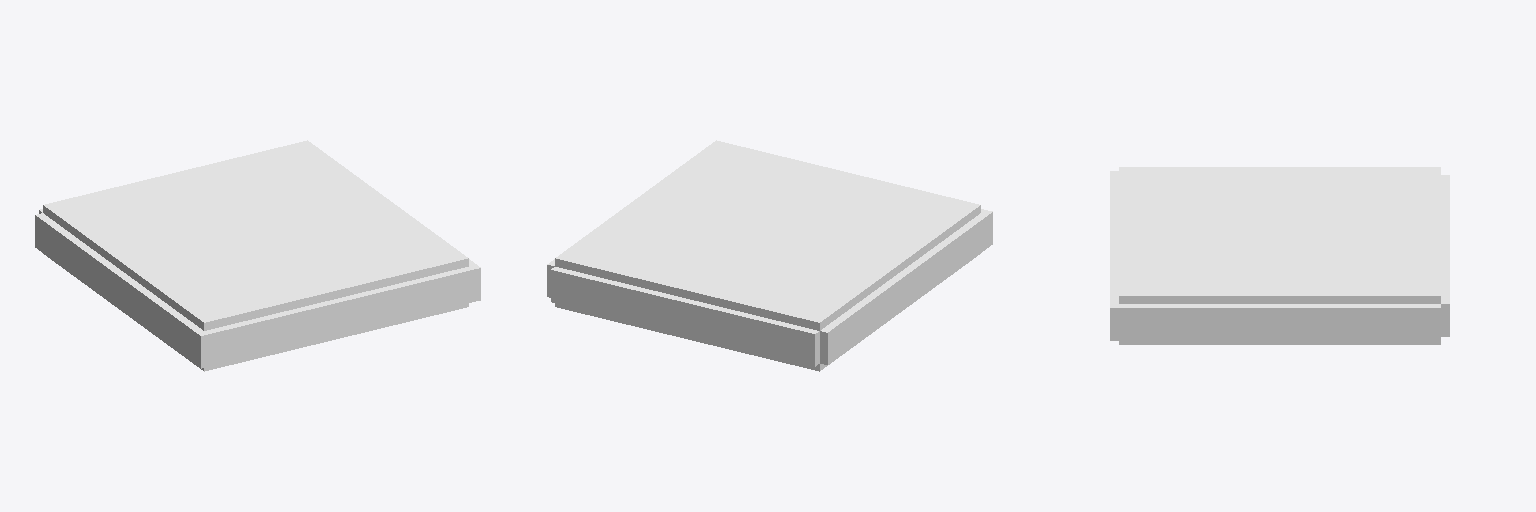
3 views of the same model, side by side, from view 1: azimuth 30°, elevation 25°; view 2: azimuth 150°, elevation 25°; view 3: azimuth 270°, elevation 25° (orthographic).
Parts seen in each view (by area): view 1: Player_untitled.002; view 2: Player_untitled.002; view 3: Player_untitled.002.
Part boxes in pixels (bbox=[...]): Player_untitled.002: bbox=[35, 140, 480, 371]; Player_untitled.002: bbox=[547, 140, 992, 371]; Player_untitled.002: bbox=[1110, 167, 1449, 344].
Bounding box in the file's own units: 3.61 × 0.6 × 3.8.